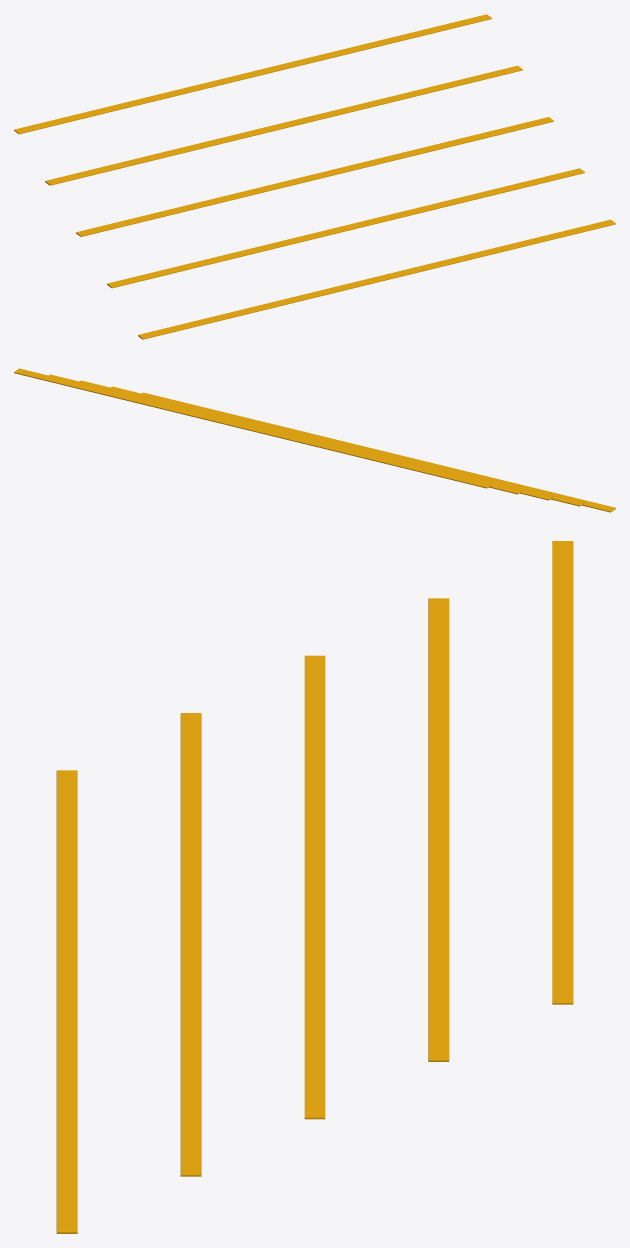
The model's file is gteki_ik_stair_n5_r166_t325_w2883_nosing.glb.
3 renders of one model, top to bottom at view 1: azimuth 30°, elevation 25°; view 2: azimuth 150°, elevation 25°; view 3: azimuth 270°, elevation 25°, orthographic. The views are drawn at different scales.
Parts seen in each view (by area): view 1: VIS_nosings; view 2: VIS_nosings; view 3: VIS_nosings.
Part boxes in pixels (x1,y1,x2,y2): VIS_nosings: (14, 14, 615, 339); VIS_nosings: (14, 368, 615, 512); VIS_nosings: (56, 541, 573, 1233).
Size of the model in its own units: 2.87 by 0.67 by 1.36.
